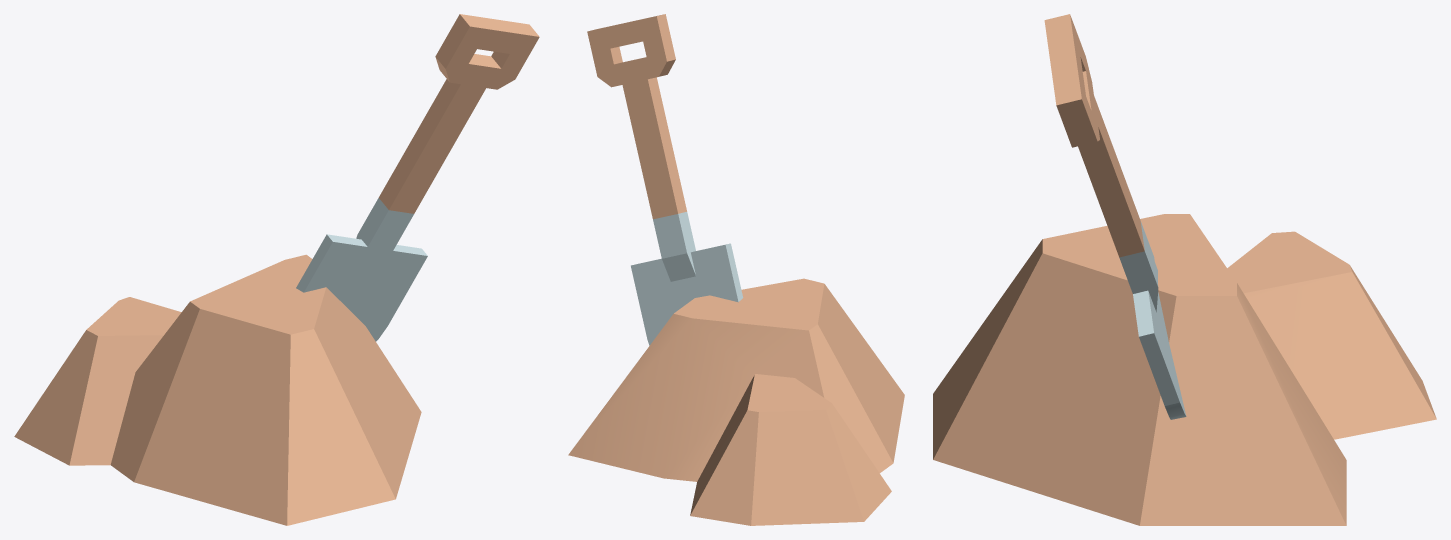
Rendered from shovelDirt.glb.
3 renders of one model, left to right at view 1: azimuth 30°, elevation 25°; view 2: azimuth 150°, elevation 25°; view 3: azimuth 270°, elevation 25°, orthographic. The views are drawn at different scales.
Visible parts, largest first — view 1: shovelDirt; view 2: shovelDirt; view 3: shovelDirt.
Boxes of the visible parts, x1,y1,x2,y2 form: shovelDirt: [14, 14, 539, 525]; shovelDirt: [568, 14, 904, 525]; shovelDirt: [933, 14, 1436, 525].
Size of the model in its own units: 0.5994 by 0.5738 by 0.5057.
